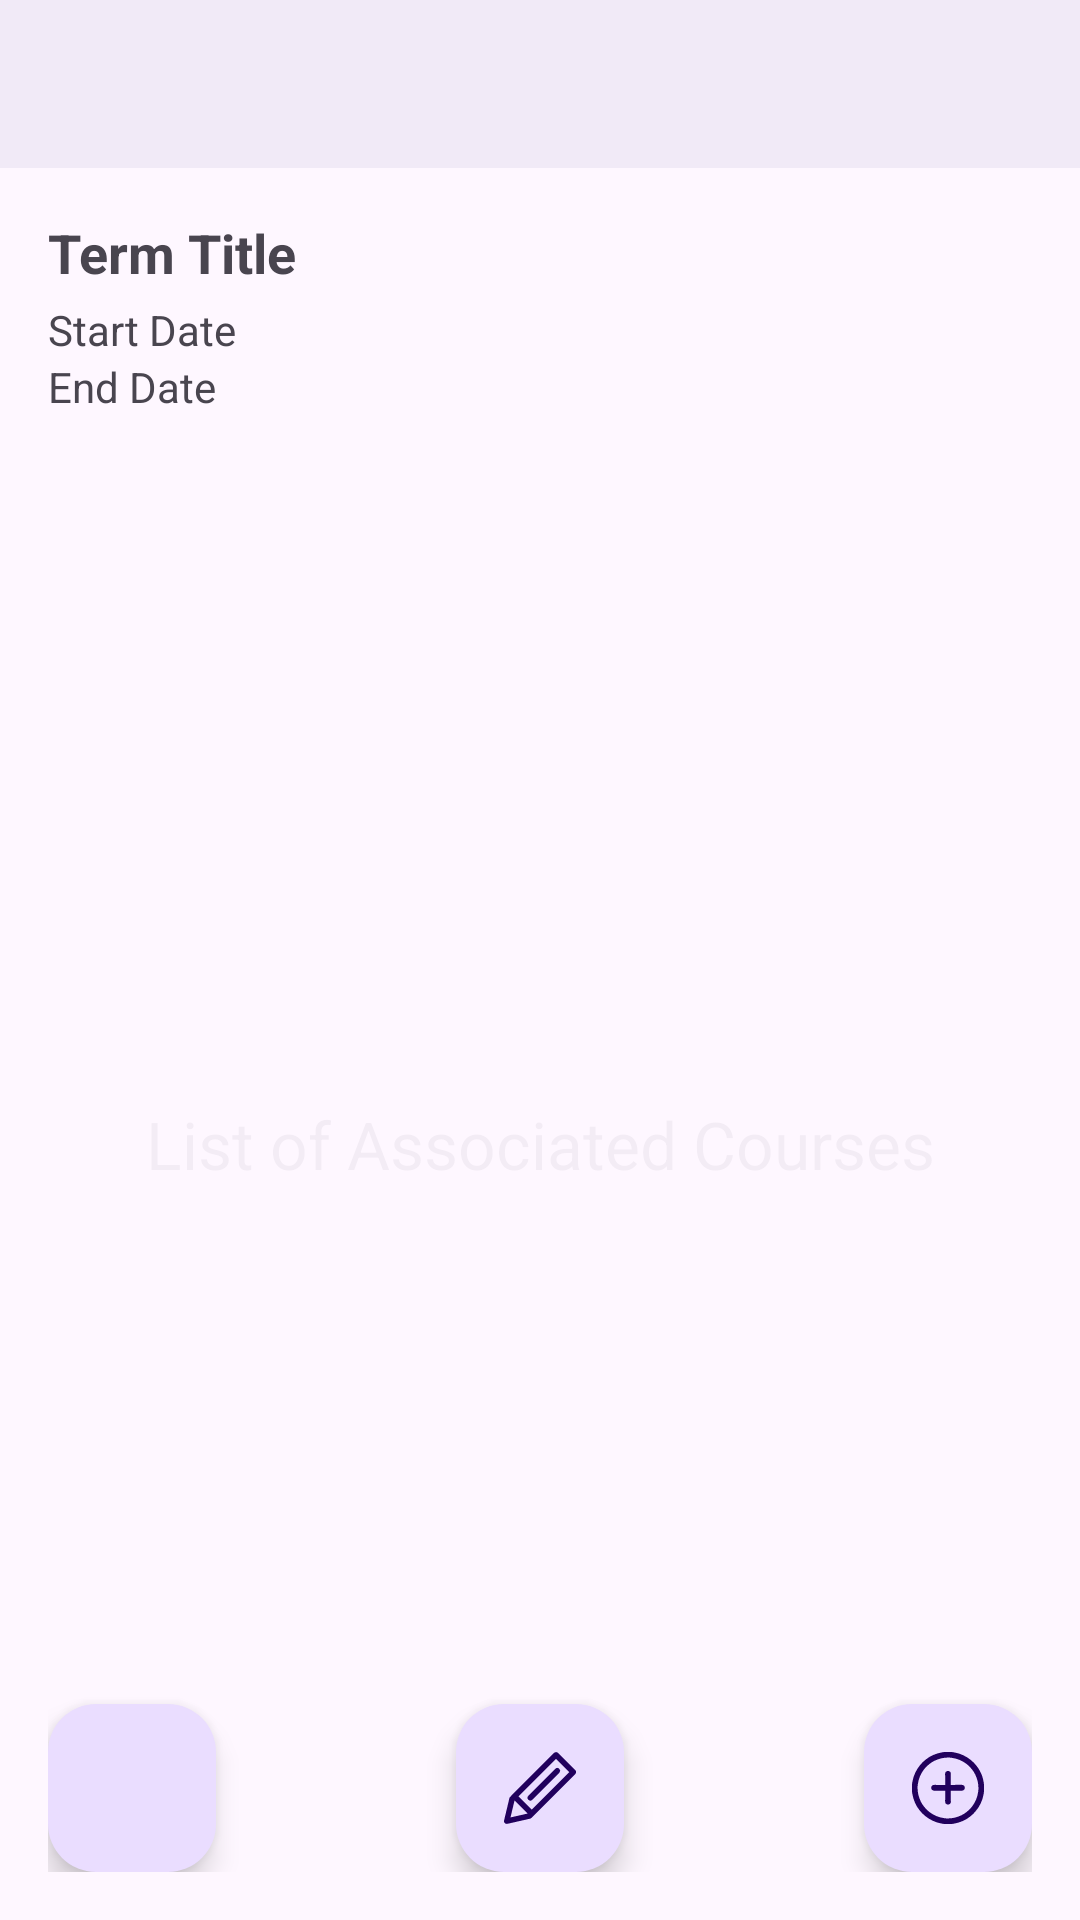

Named icons in this screenshot (1080 × 1920) and their bounding boxes, (x1, y1, x2, y2):
Add Course: (864, 1704, 1032, 1872)
edit: (456, 1704, 624, 1872)
